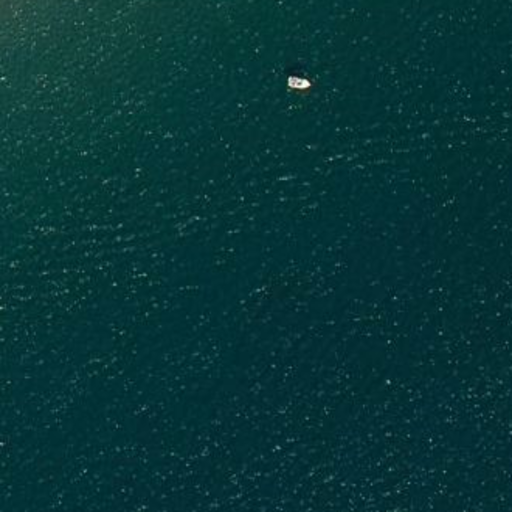ship: (285, 73, 313, 94)
